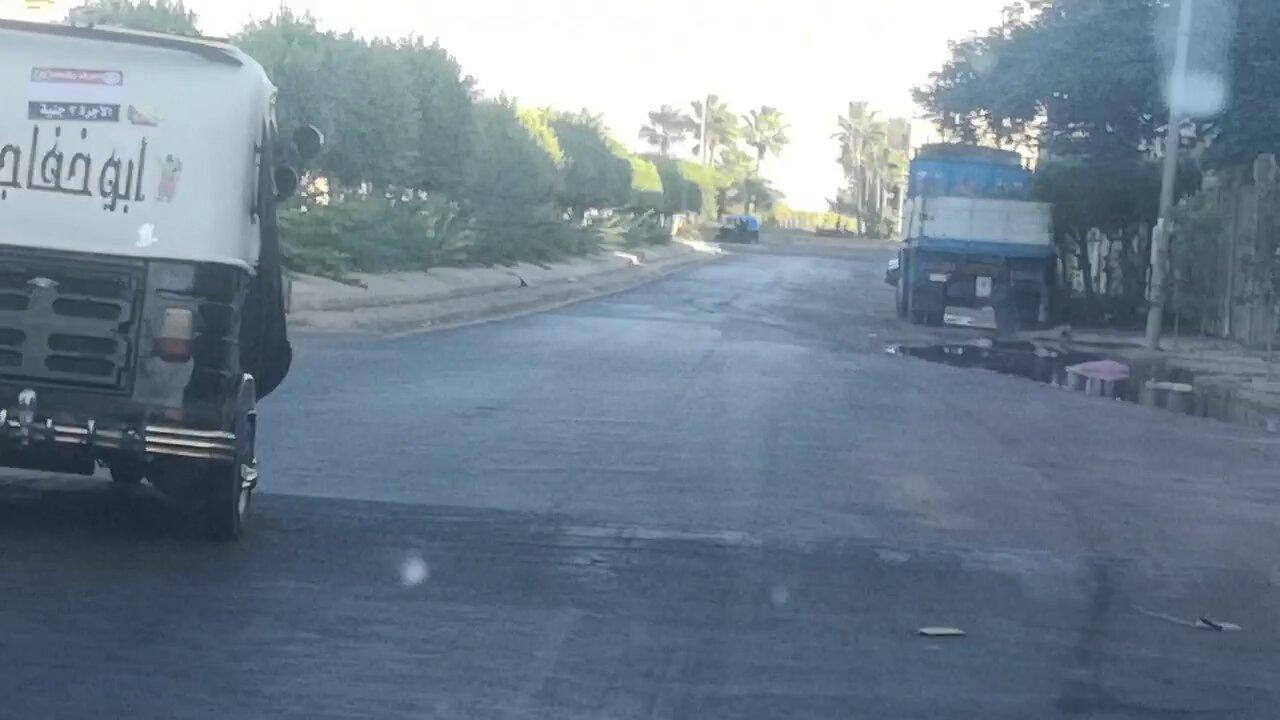Bump: (272, 488, 1245, 650)
